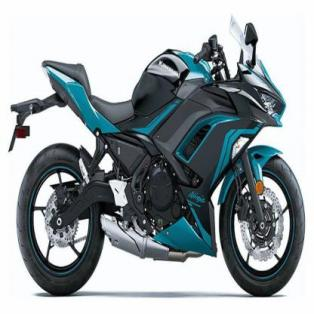Motocicleta: (7, 20, 305, 299)
